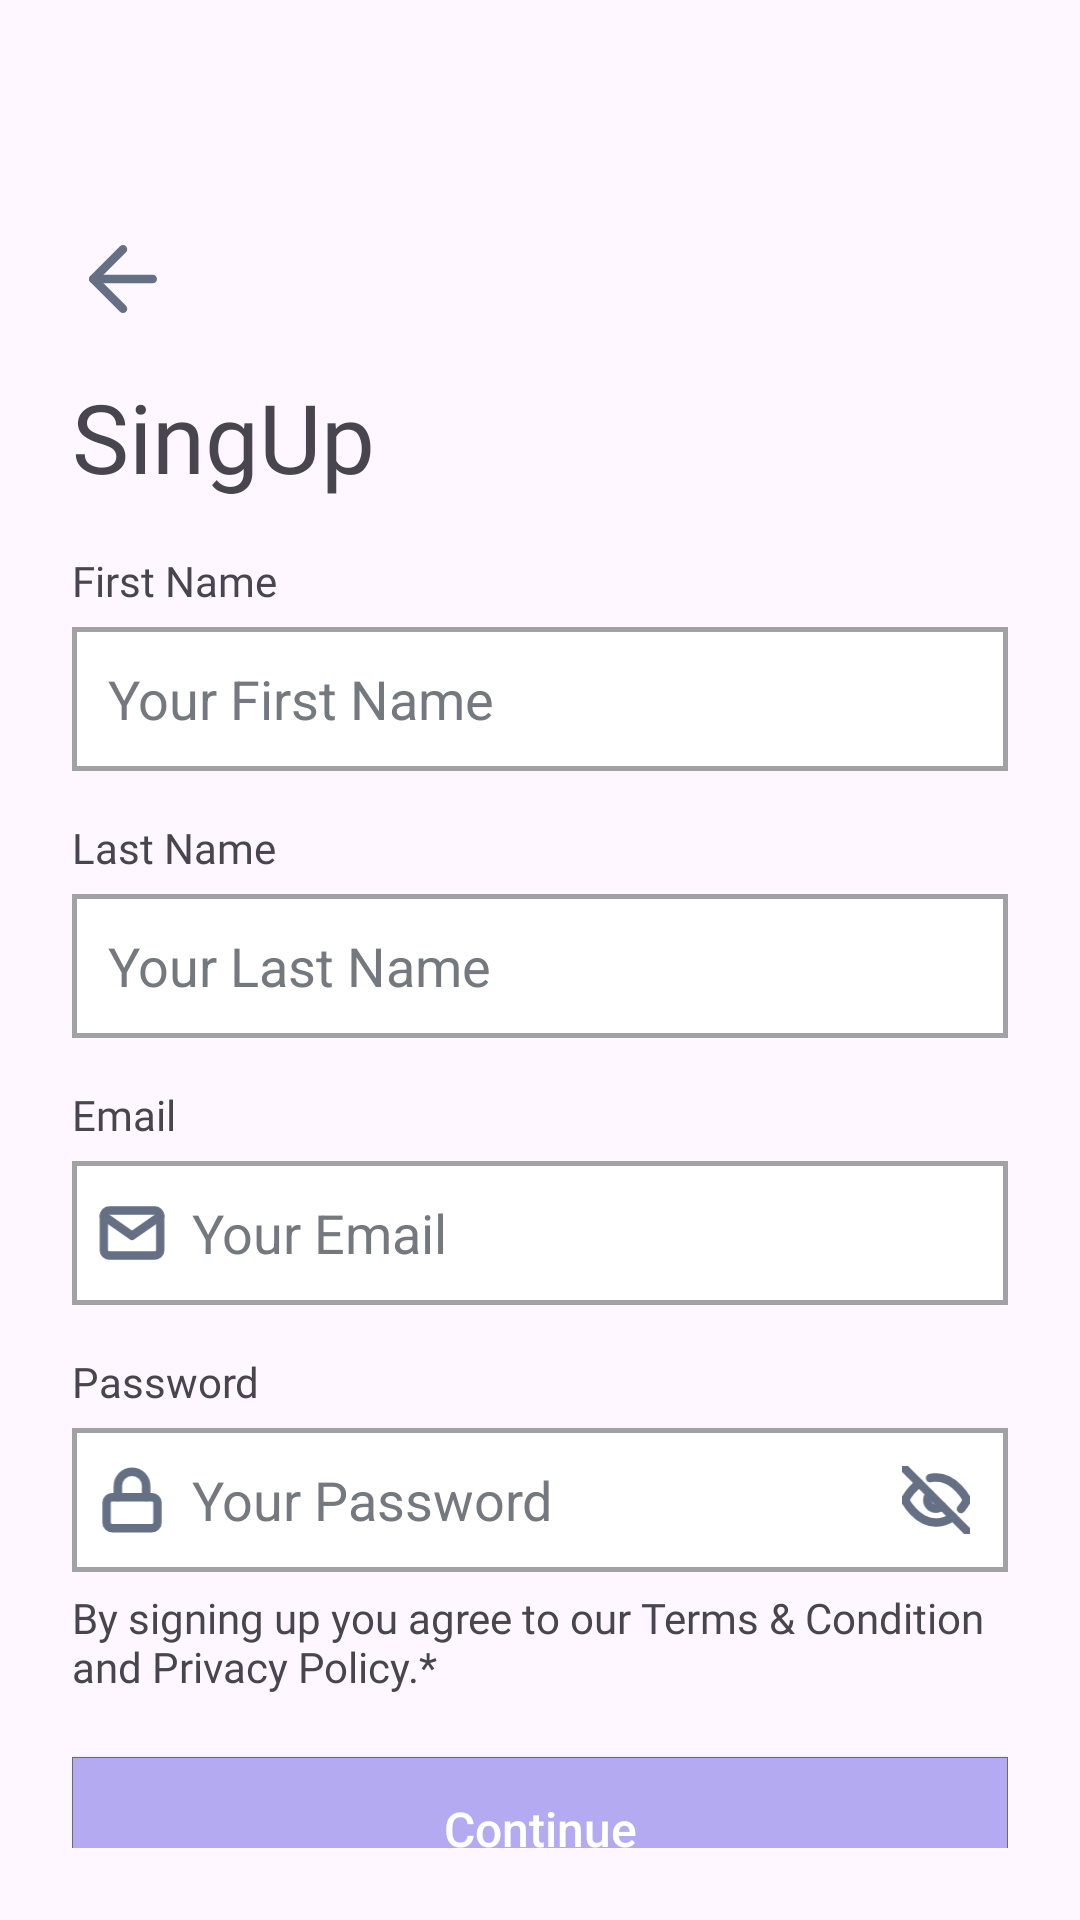

Screen size 1080w x 1920h. Icon name, then its box in pixels as (x1, y1, x2, y2):
arrow left: (89, 245, 157, 313)
eye off: (902, 1466, 970, 1534)
lock: (102, 1467, 162, 1533)
